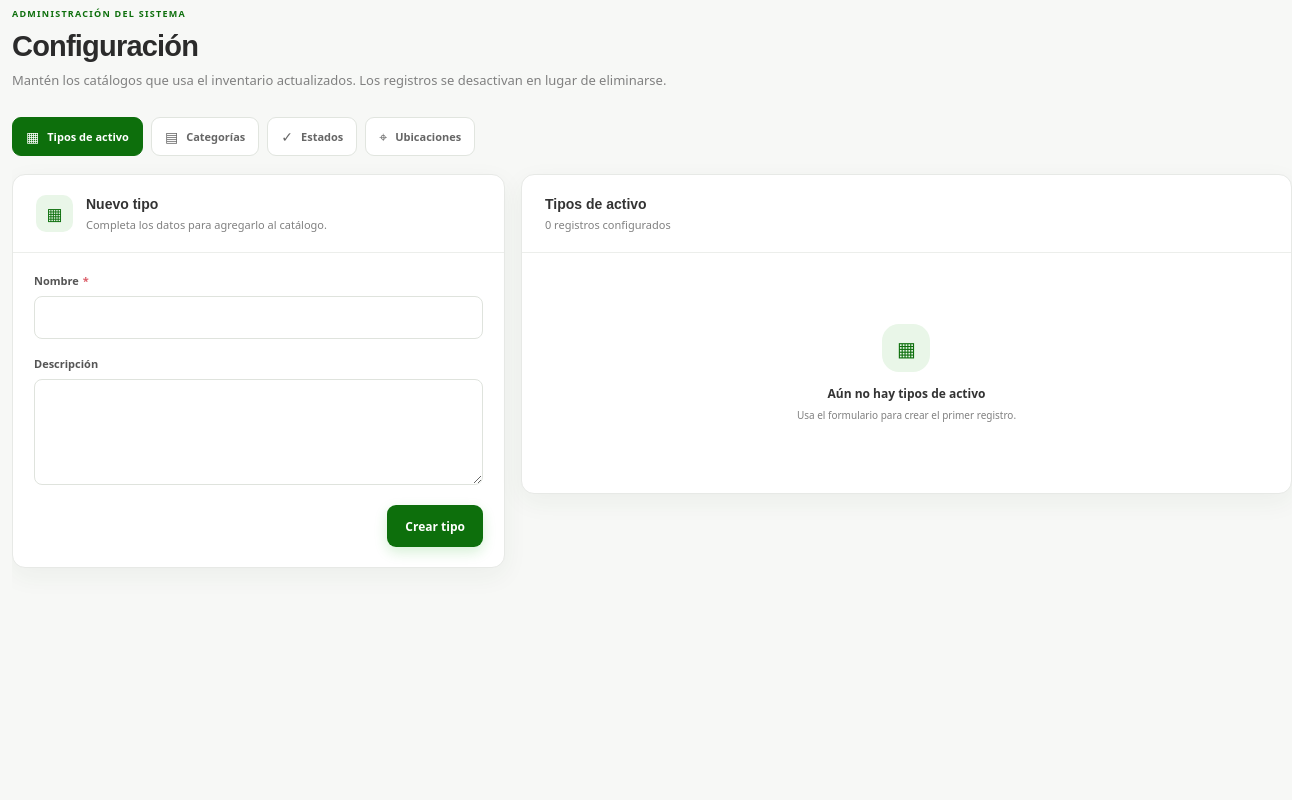
Scenario: Configuración de catálogos › crea un tipo de activo y lo muestra en el catálogo
Type "Mobiliario" into the field labelled "Nombre*" at [258, 318], box [34,296,483,339]
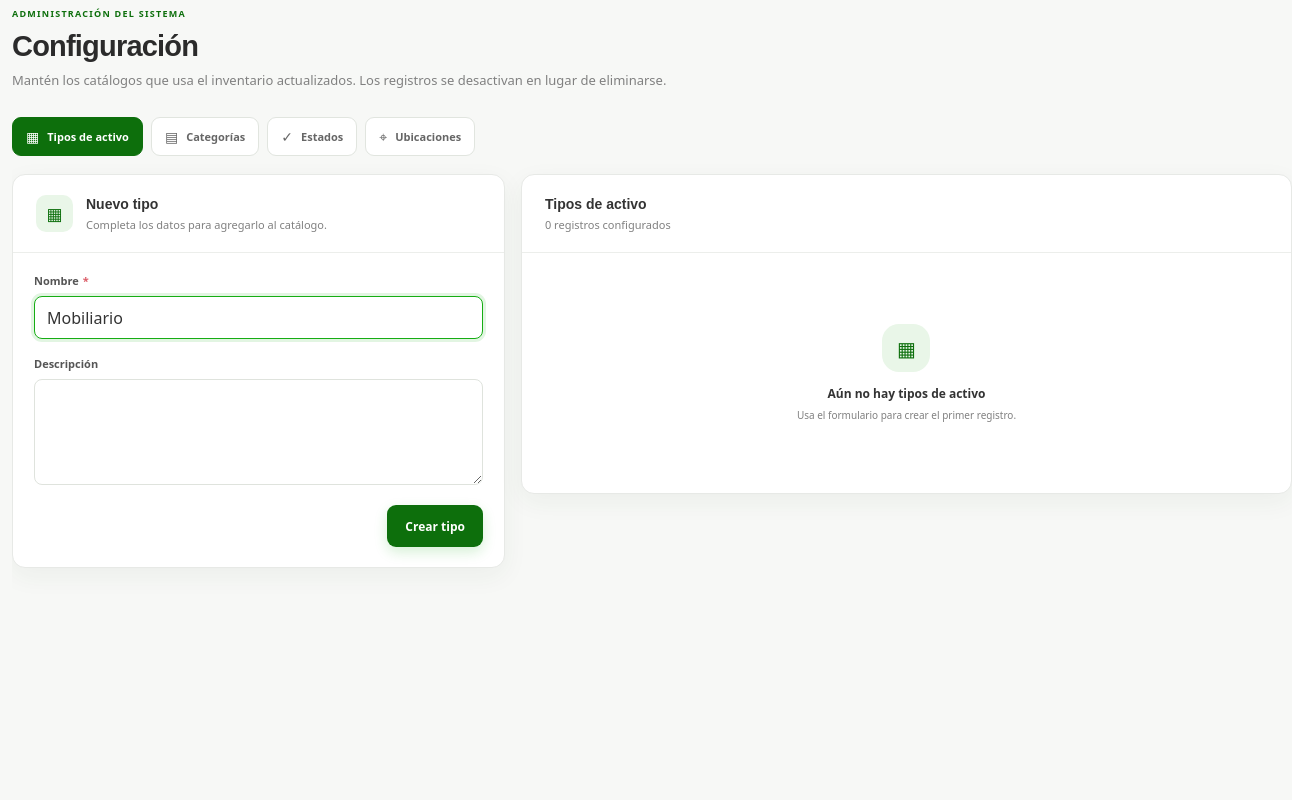
Type "Muebles de oficina" into the text box labelled "Descripción" at [258, 432], box [34,379,483,485]
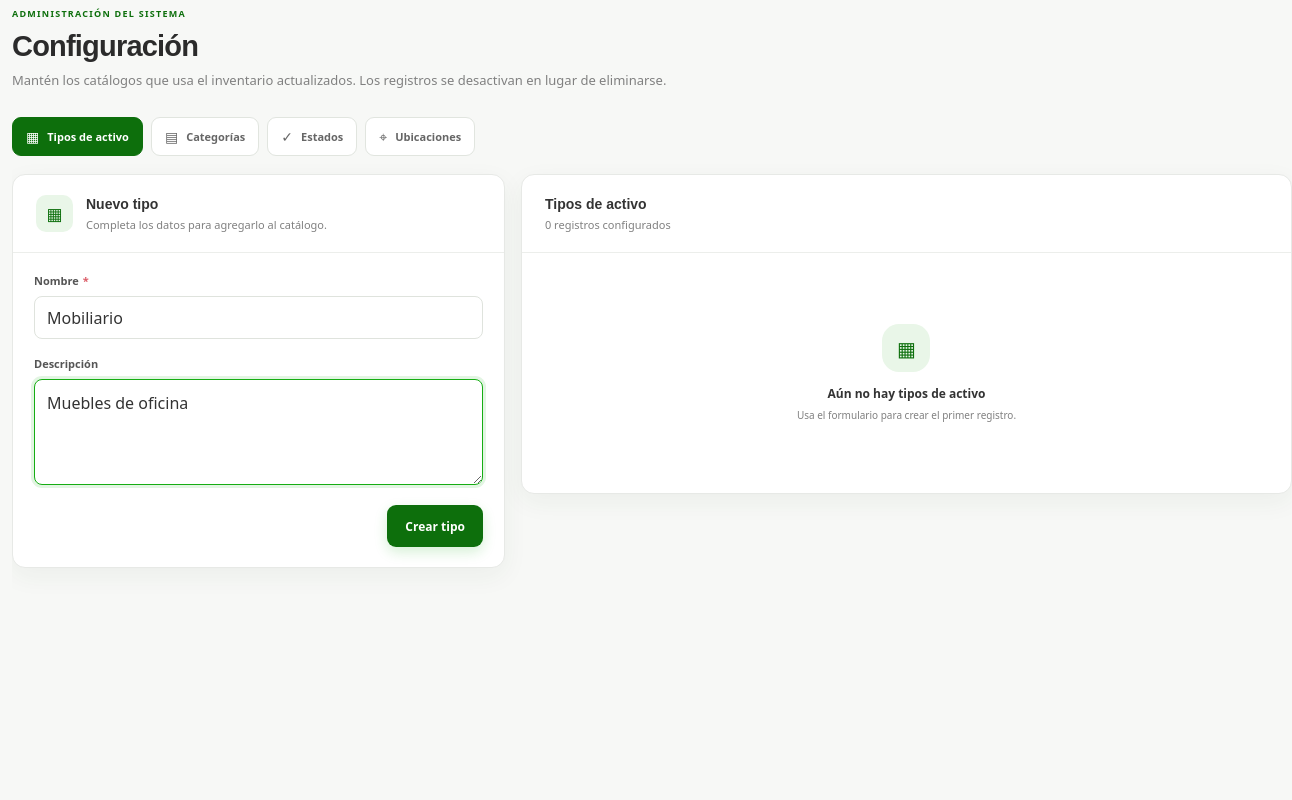
Click the button "Crear tipo" at [435, 526], box [387,505,483,547]
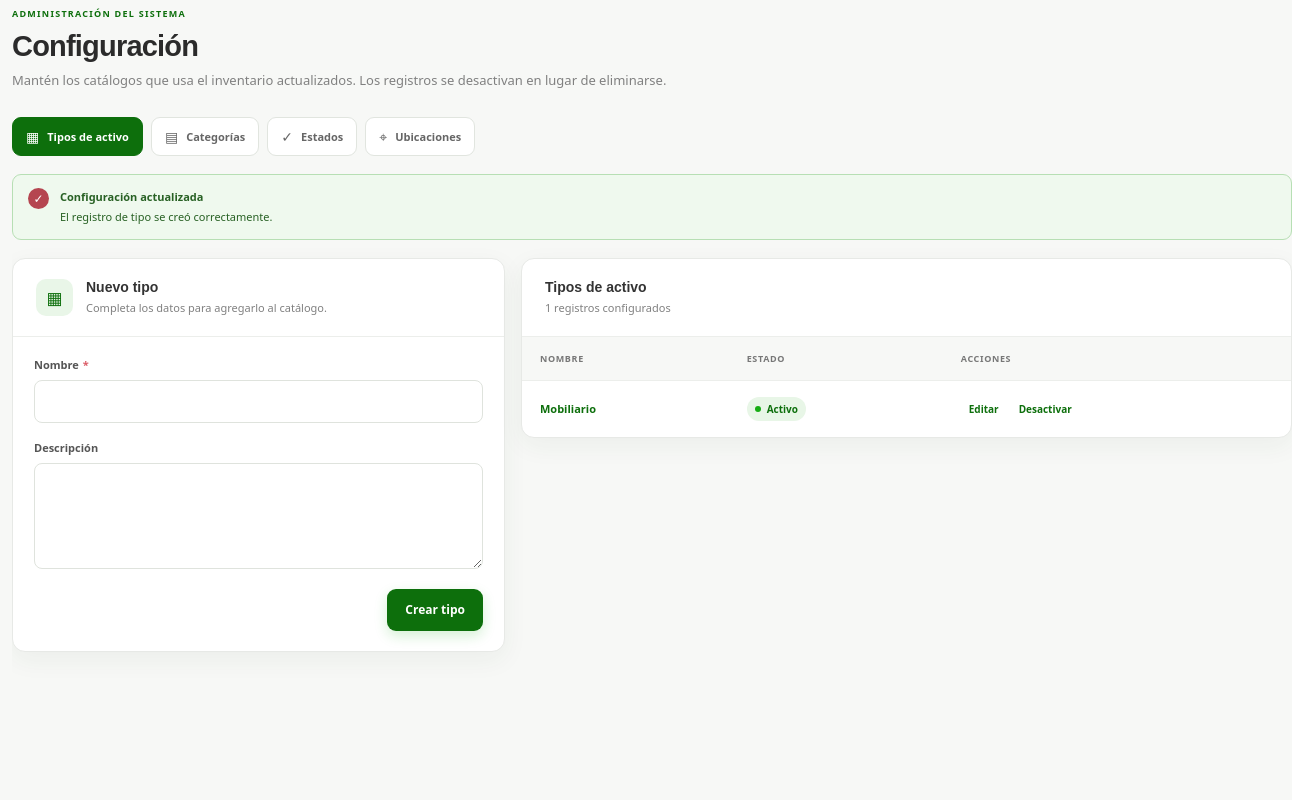
Expected: the text "El registro de tipo se creó correctamente." is shown, [60,209,272,226]
Expected: the cell "Mobiliario" is shown, [522,380,729,437]
